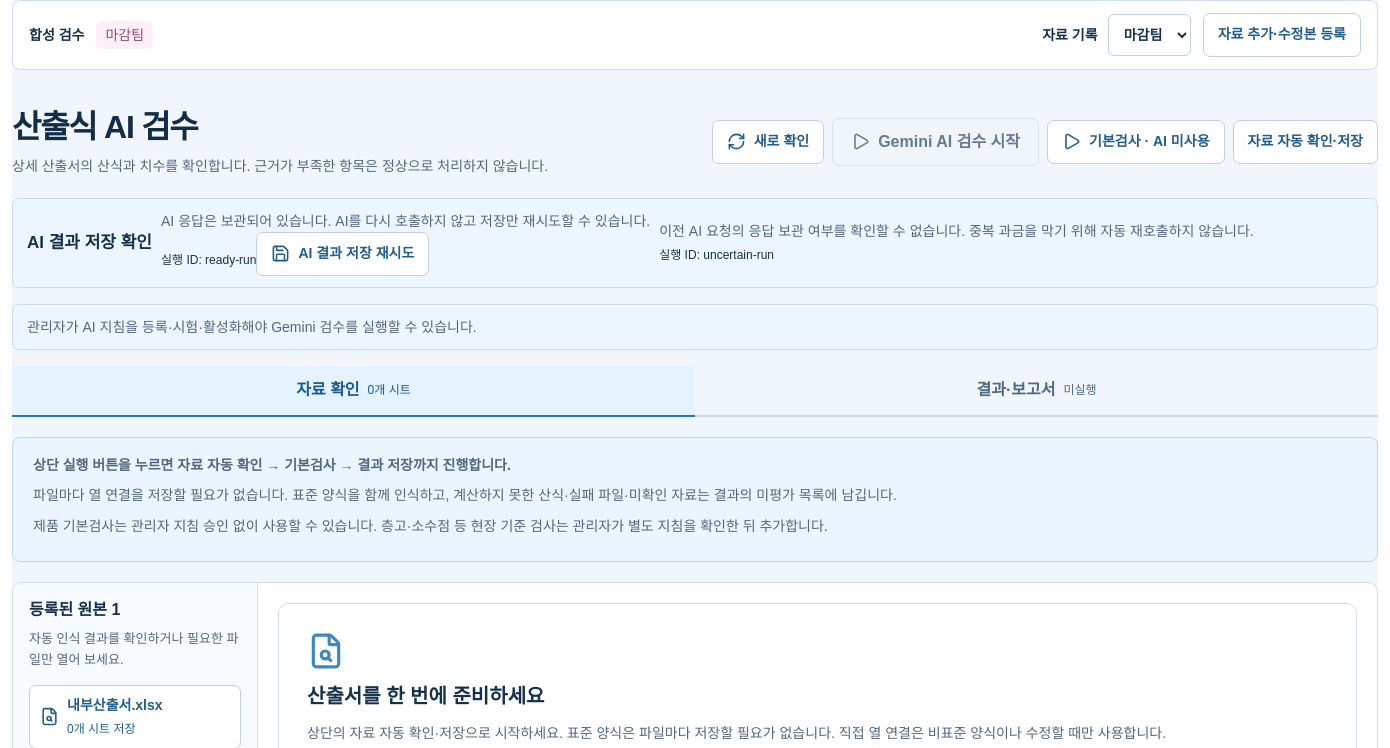
Test case: review preparation and feature navigation › offers storage-only recovery for ready results, not uncertain requests
This screenshot has width=1390, height=748.
expect the text "이전 AI 요청의 응답 보관 여부를 확인할 수 없습니다. 중복 과금을 막기 위해 자동 재호출하지 않습니다." is shown: met, box [659, 220, 1254, 243]
Click the button "AI 결과 저장 재시도" at (343, 254), box [256, 232, 429, 276]
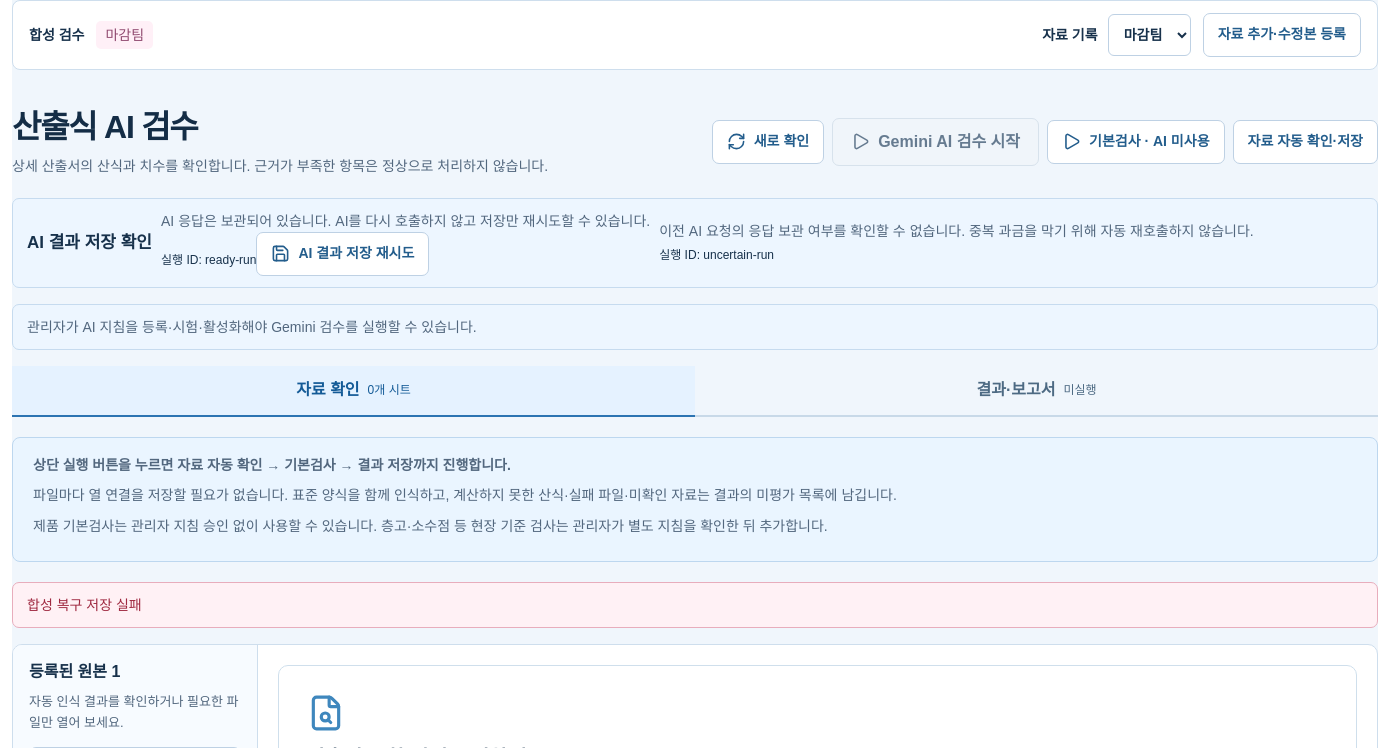
expect the text "합성 복구 저장 실패" is shown: met, box [12, 582, 1378, 628]
